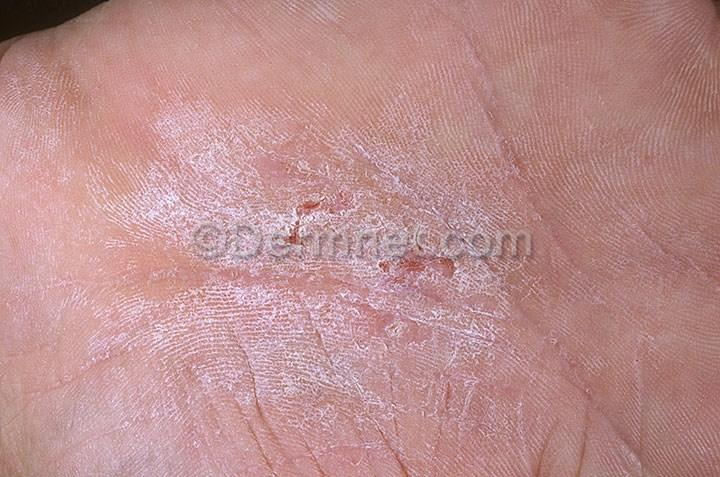Eczema: (286, 123, 515, 227), (359, 260, 515, 371), (183, 257, 343, 347), (153, 100, 268, 218)
